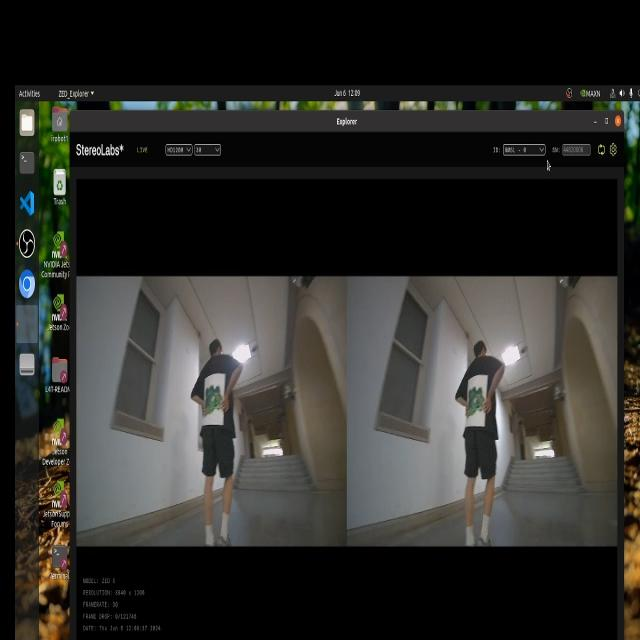green: (189, 371, 214, 418), (472, 384, 494, 424)
